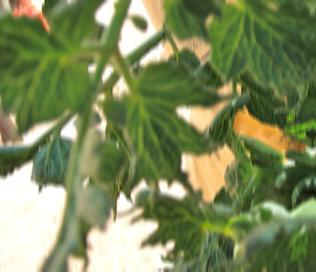Tomato leaf mosaic virus: (0, 0, 121, 127), (109, 63, 207, 176), (210, 0, 316, 94), (134, 195, 223, 259), (234, 72, 303, 142), (264, 218, 316, 272), (0, 140, 43, 193)
